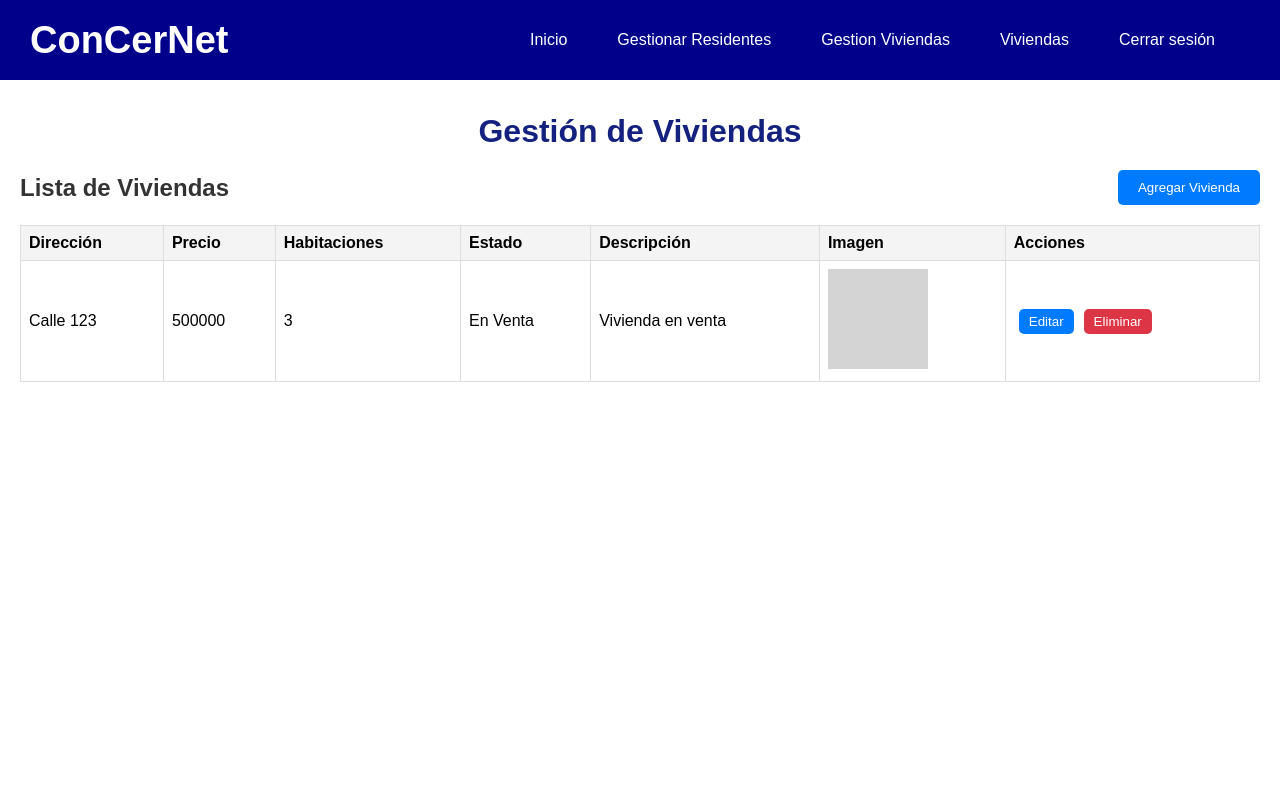
Scenario: Pruebas de integración para GestionViviendas › Debe editar una vivienda correctamente
Expected: the text "Calle 123" is shown, [20, 261, 163, 382]
Click the button "Editar". click: click(1046, 321)
box: [1019, 309, 1074, 334]
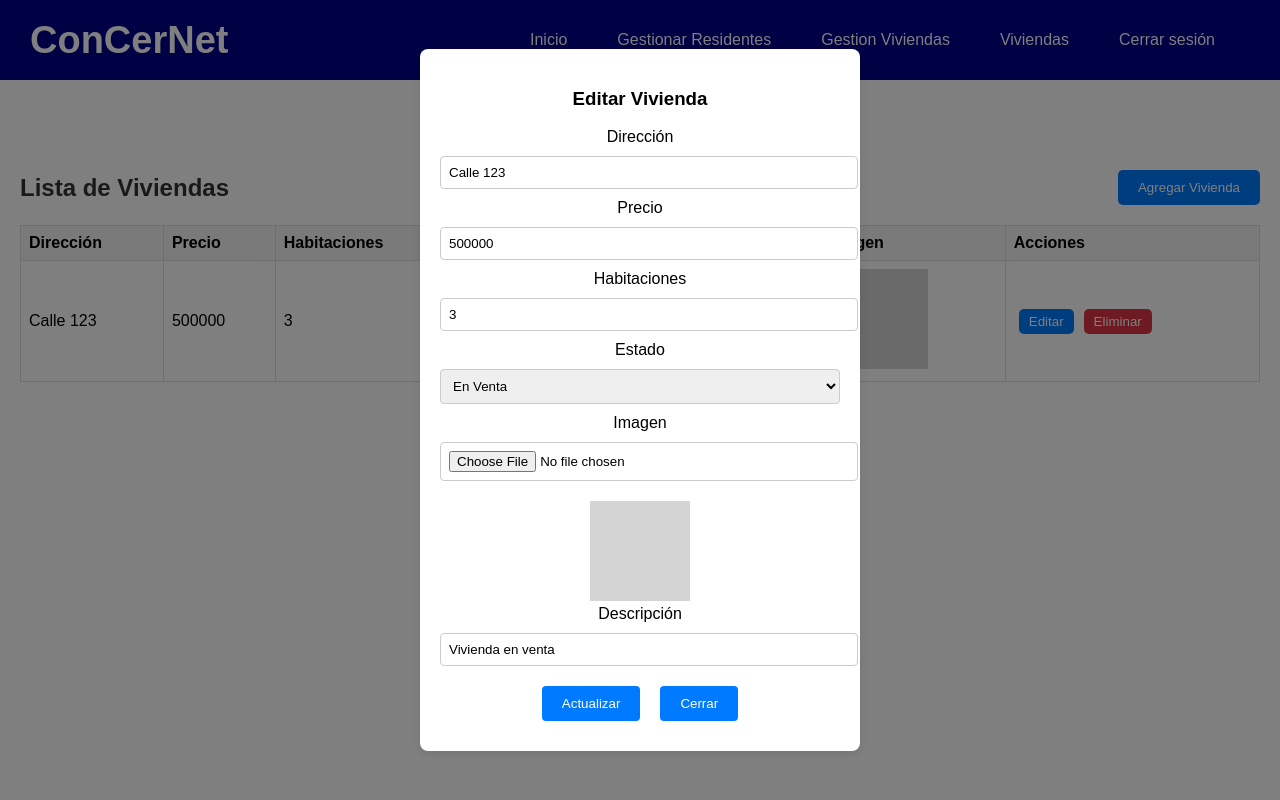
Replace the text in the field with placeholder "Dirección" with "Calle 789". click: (649, 173)
box: [440, 156, 858, 189]
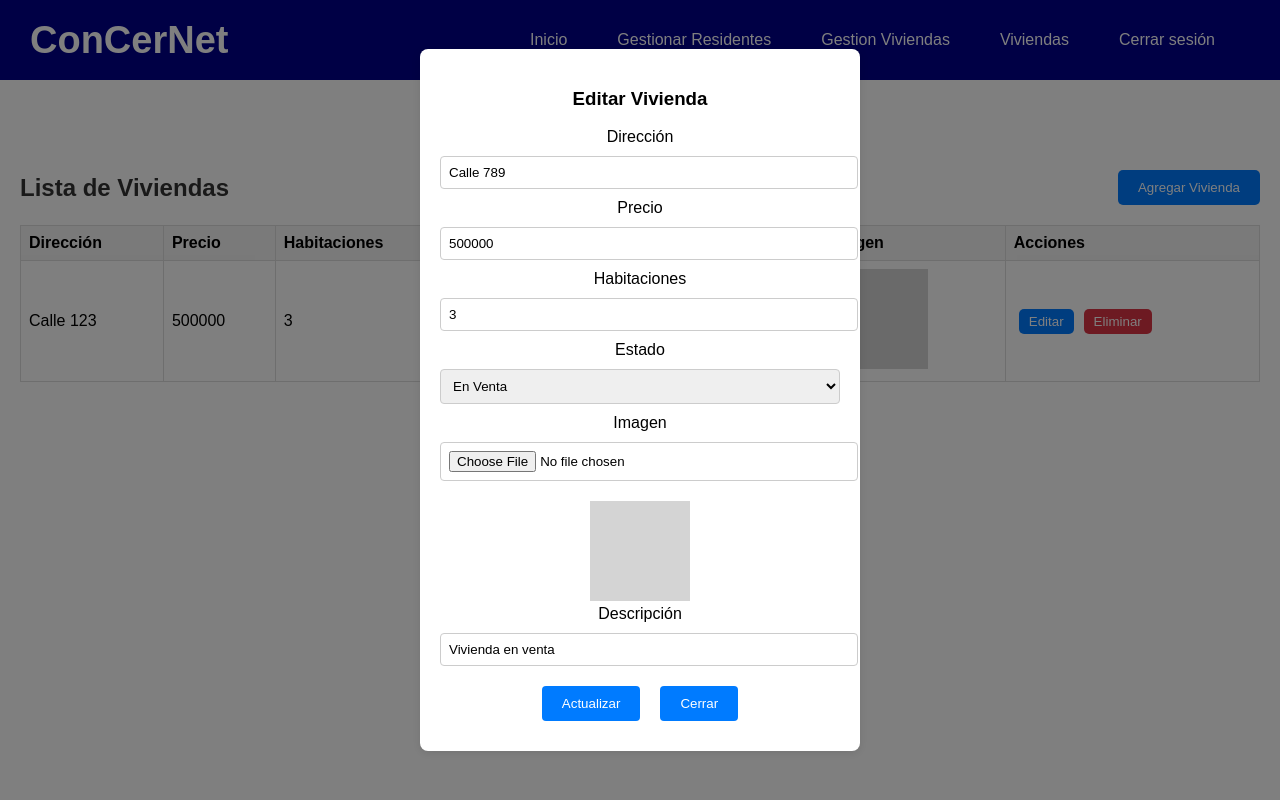
Replace the text in the field with placeholder "Precio" with "700000". click: (649, 244)
box: [440, 227, 858, 260]
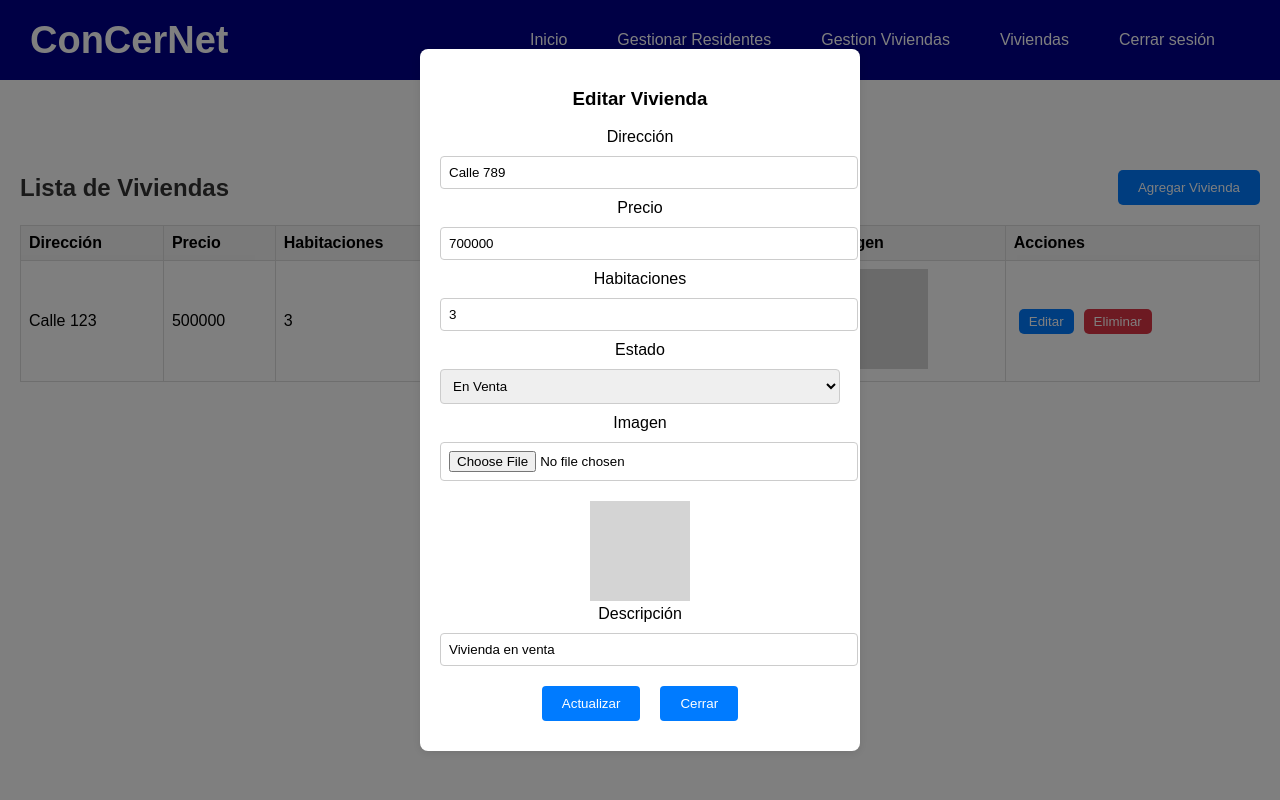
Replace the text in the number field with placeholder "Habitaciones" with "4". click: (649, 315)
box: [440, 298, 858, 331]
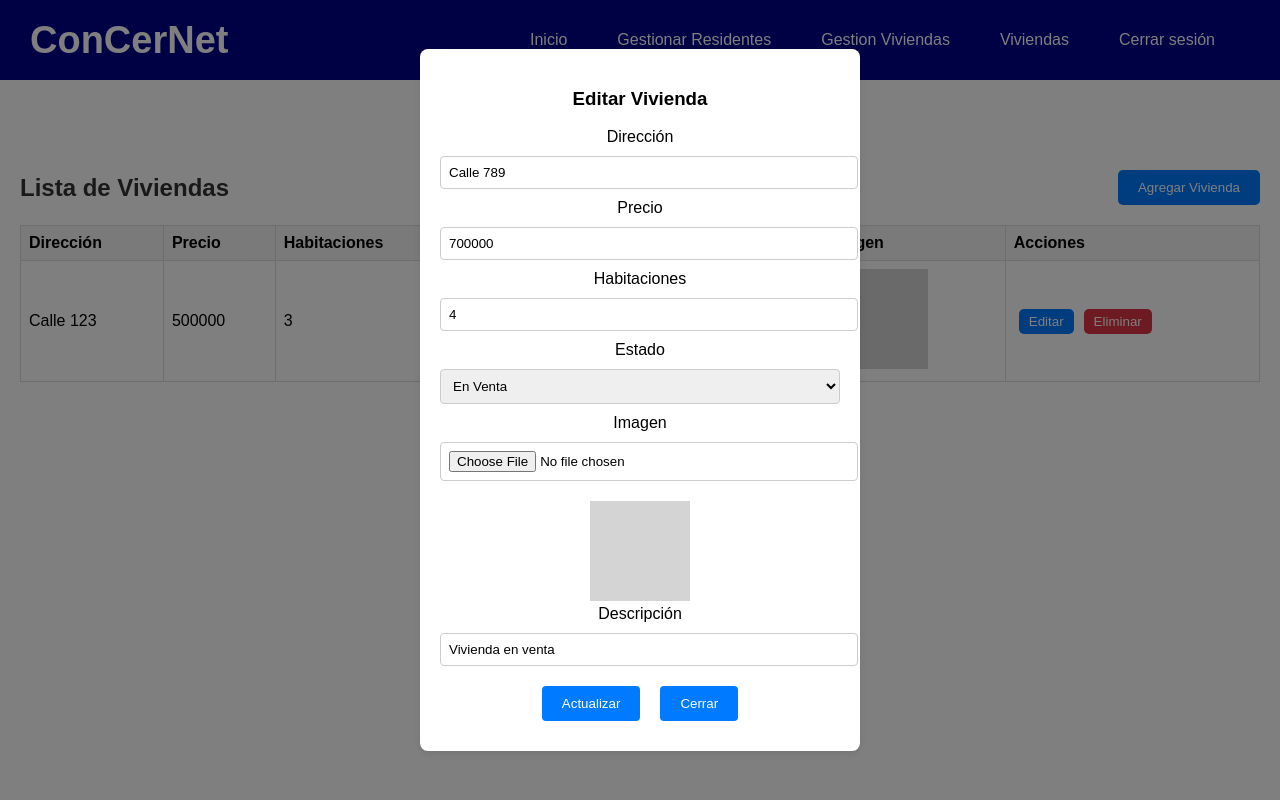
Replace the text in the field with placeholder "Descripción" with "Vivienda editada". click: (649, 650)
box: [440, 633, 858, 666]
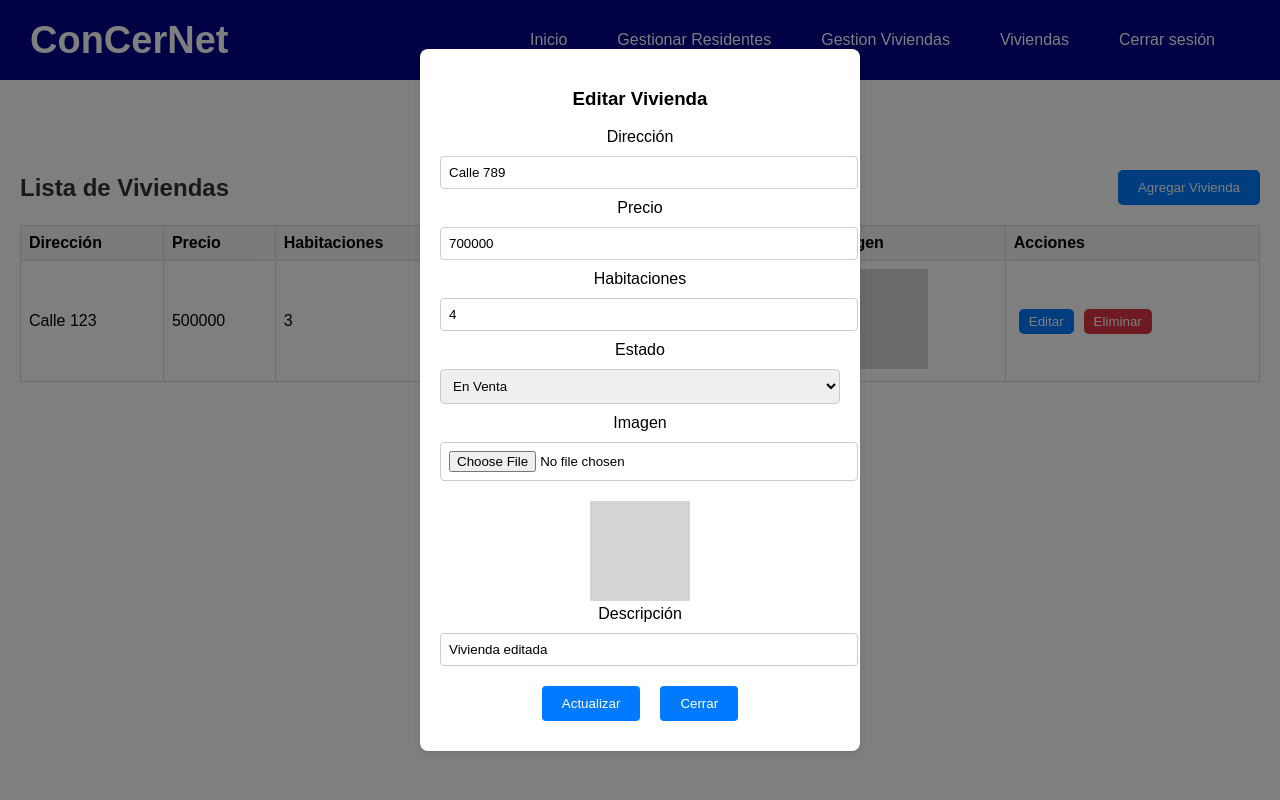
Click the button "Actualizar". click: click(591, 704)
box: [542, 686, 640, 721]
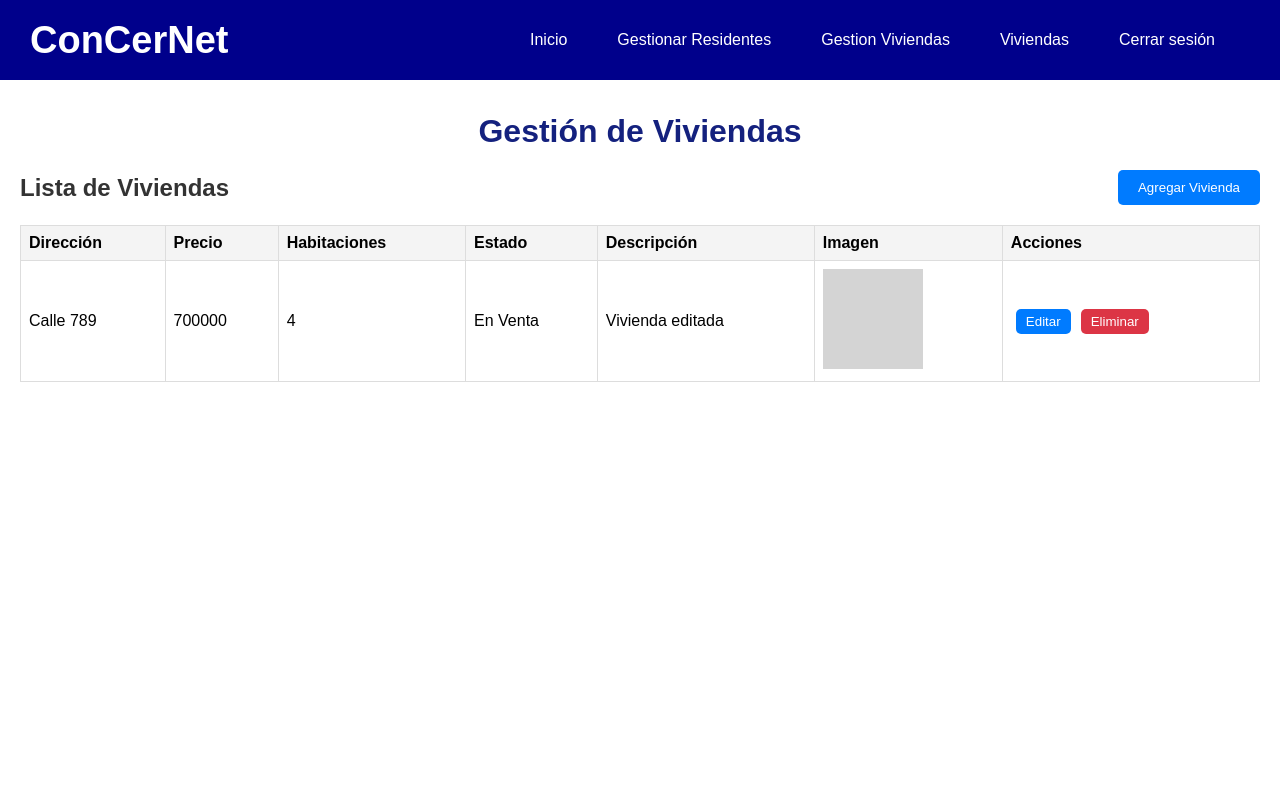
Now the text "Calle 789" is shown, box [20, 261, 165, 382]
Now the text "700000" is shown, box [165, 261, 278, 382]
